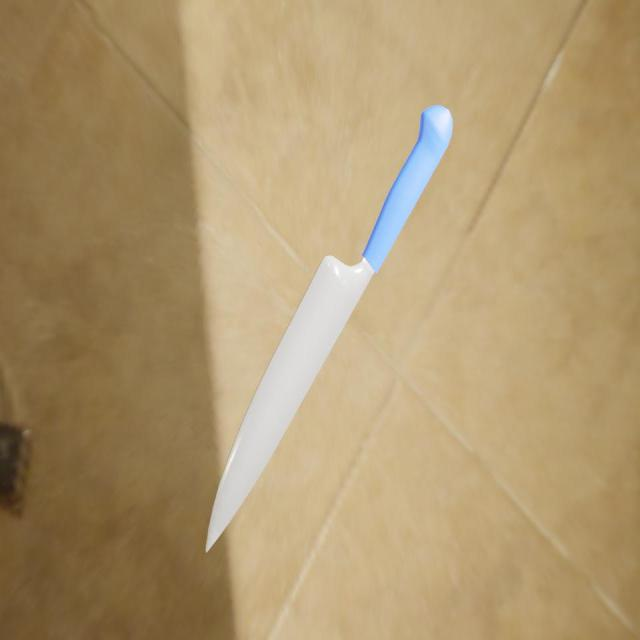knife: (362, 104, 453, 273)
